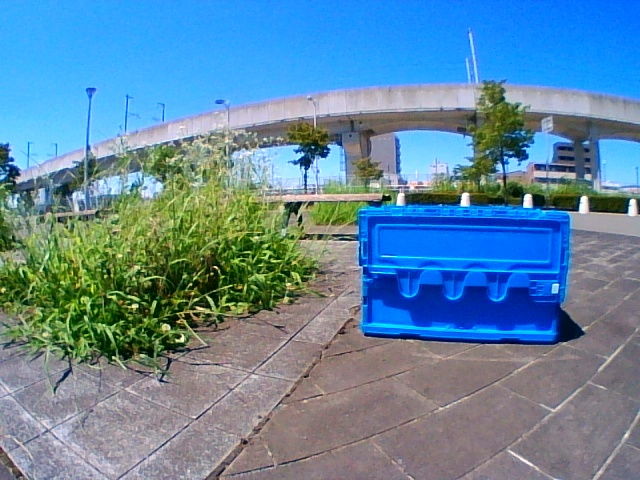blue_box: (364, 209, 555, 335)
